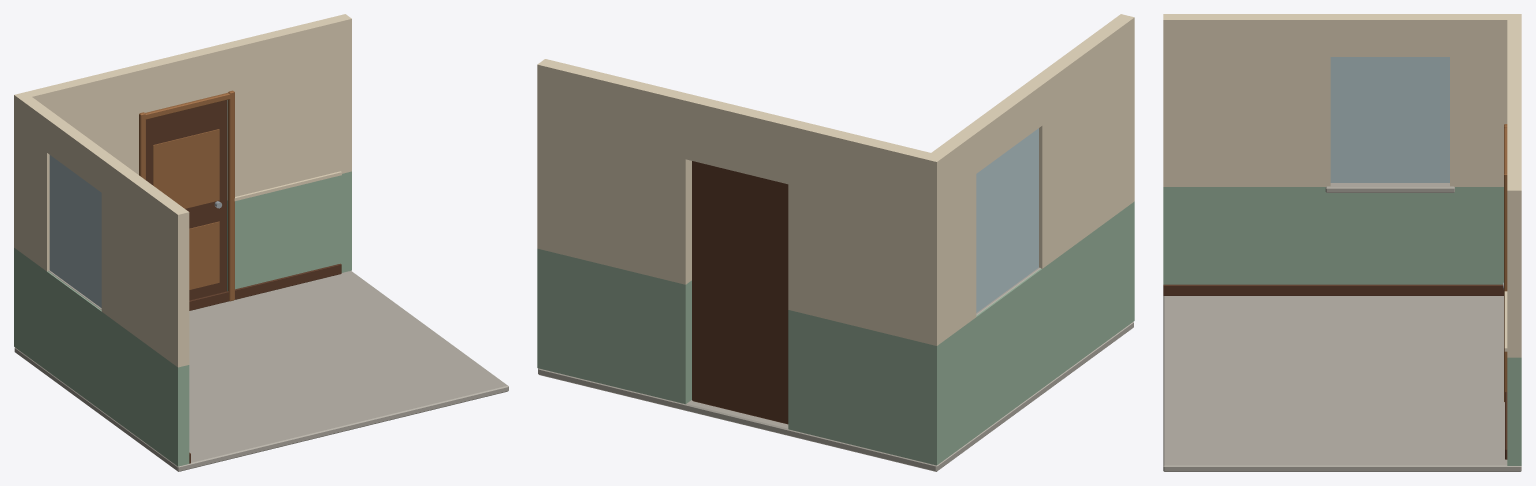
The model's file is room_shell.glb.
3 views of the same model, side by side, from view 1: azimuth 30°, elevation 25°; view 2: azimuth 150°, elevation 25°; view 3: azimuth 270°, elevation 25° (orthographic). The views are drawn at different scales.
Visible parts, largest first — view 1: room_shell; view 2: room_shell; view 3: room_shell.
Part boxes in pixels (left/top/right/bottom): room_shell: left=14, top=14, right=508, bottom=471; room_shell: left=537, top=14, right=1134, bottom=471; room_shell: left=1163, top=14, right=1521, bottom=471.
Size of the model in its own units: 3.5 by 2.6 by 3.
